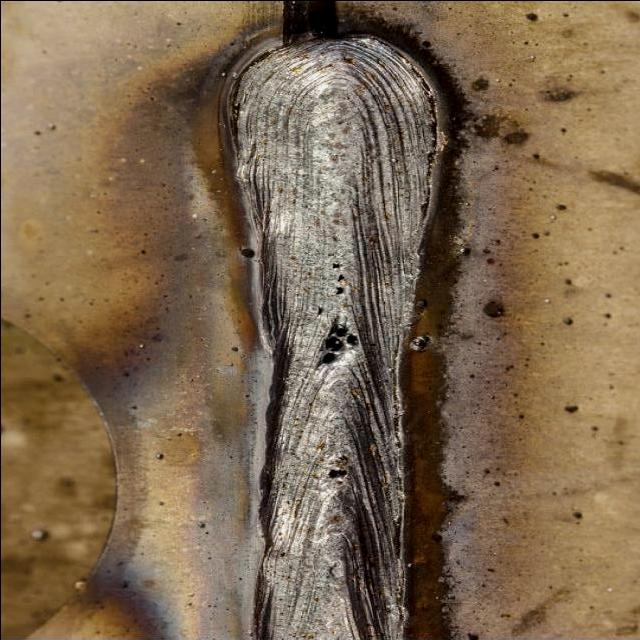defect: (314, 316, 364, 369), (326, 258, 346, 299), (320, 465, 353, 482), (236, 247, 260, 262)
